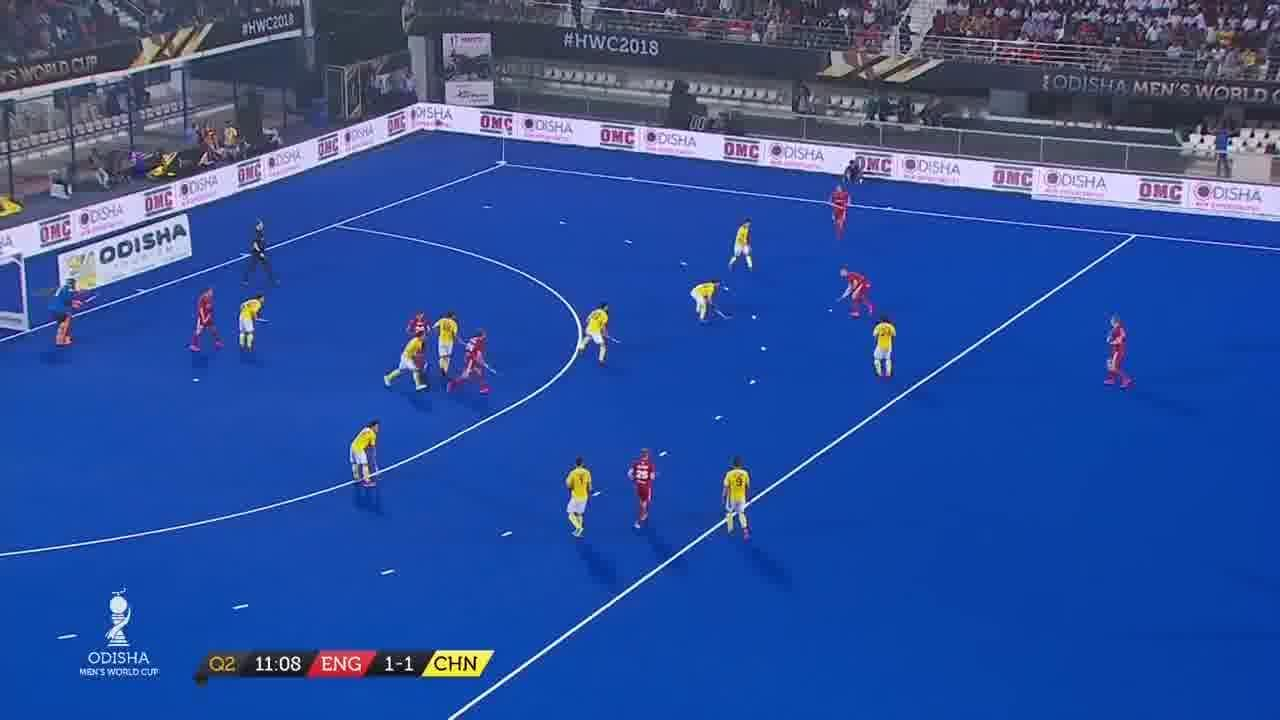ball: (828, 304, 838, 316)
